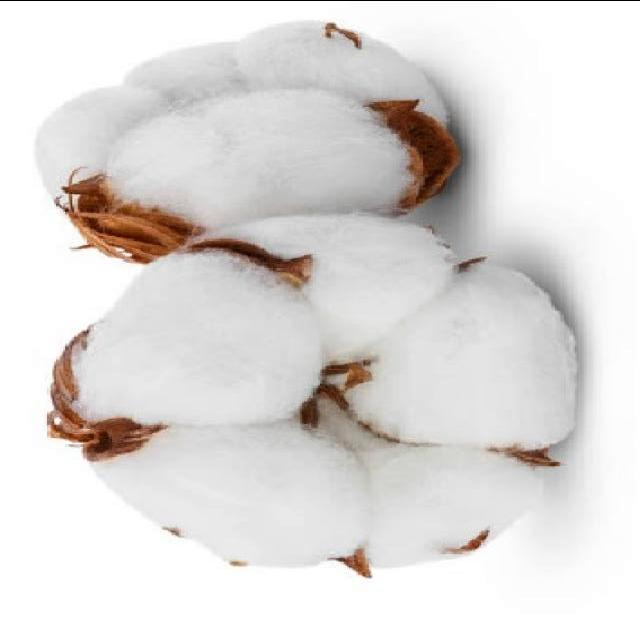Matured Cotton Boll: (48, 207, 578, 581), (17, 14, 461, 264)
